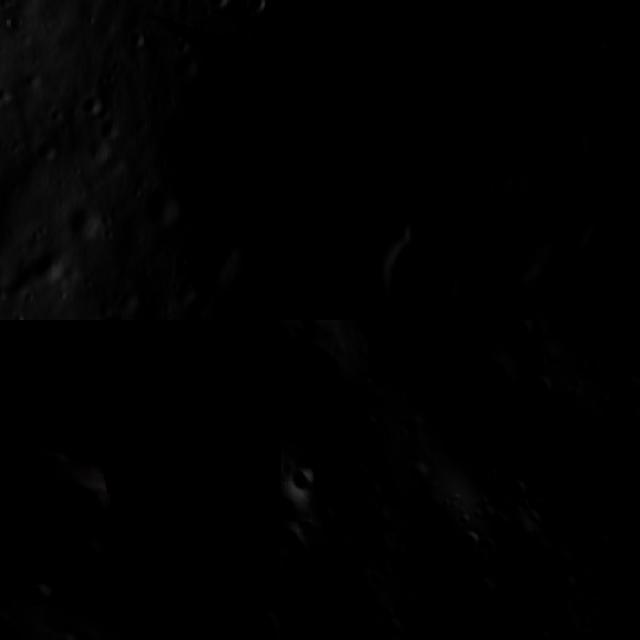crater: (281, 0, 480, 214), (377, 217, 471, 320), (440, 349, 530, 425), (281, 330, 353, 419), (519, 245, 586, 320), (63, 454, 120, 536), (578, 213, 634, 284), (281, 451, 335, 514), (148, 356, 208, 410), (573, 122, 619, 184), (196, 226, 241, 286), (300, 592, 352, 640), (454, 320, 501, 355), (217, 515, 252, 557), (501, 474, 540, 511), (488, 172, 524, 209), (457, 530, 495, 564), (137, 188, 174, 222), (476, 20, 512, 54), (23, 570, 57, 606), (281, 301, 336, 320), (248, 604, 278, 638), (104, 578, 128, 603), (255, 320, 281, 341), (52, 625, 83, 640), (55, 320, 86, 335), (199, 0, 236, 11), (244, 0, 269, 13)
